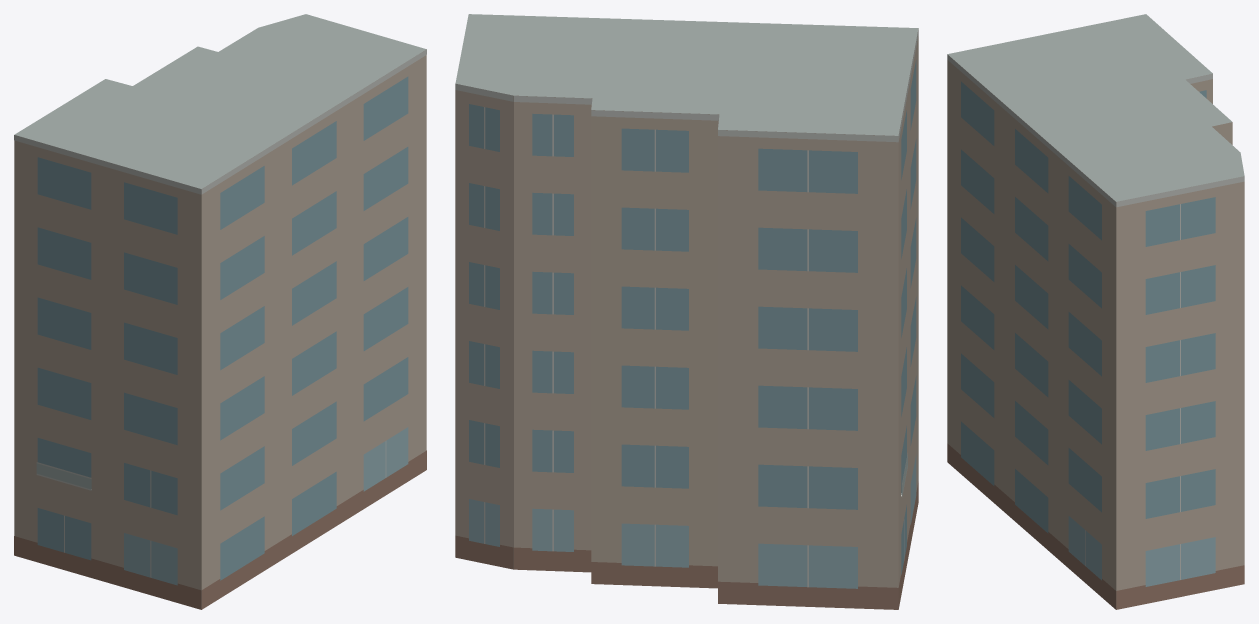
The model's file is survey-upis-32700340.glb.
The picture shows the model from 3 angles, left to right: view 1: azimuth 30°, elevation 25°; view 2: azimuth 150°, elevation 25°; view 3: azimuth 270°, elevation 25°; orthographic projection. The views are drawn at different scales.
Visible parts, largest first — view 1: survey-upis-32700340.tmp; view 2: survey-upis-32700340.tmp; view 3: survey-upis-32700340.tmp.
Boxes of the visible parts, x1=… form: survey-upis-32700340.tmp: x1=14, y1=14, x2=426, y2=609; survey-upis-32700340.tmp: x1=455, y1=14, x2=918, y2=609; survey-upis-32700340.tmp: x1=947, y1=14, x2=1244, y2=609.
Bounding box in the file's own units: 18.08 × 18.3 × 12.1.
